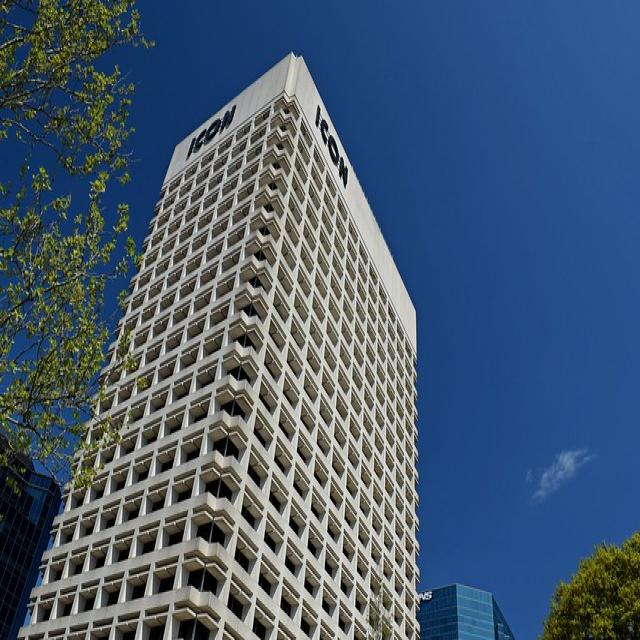Normal_building: (31, 46, 424, 640)
